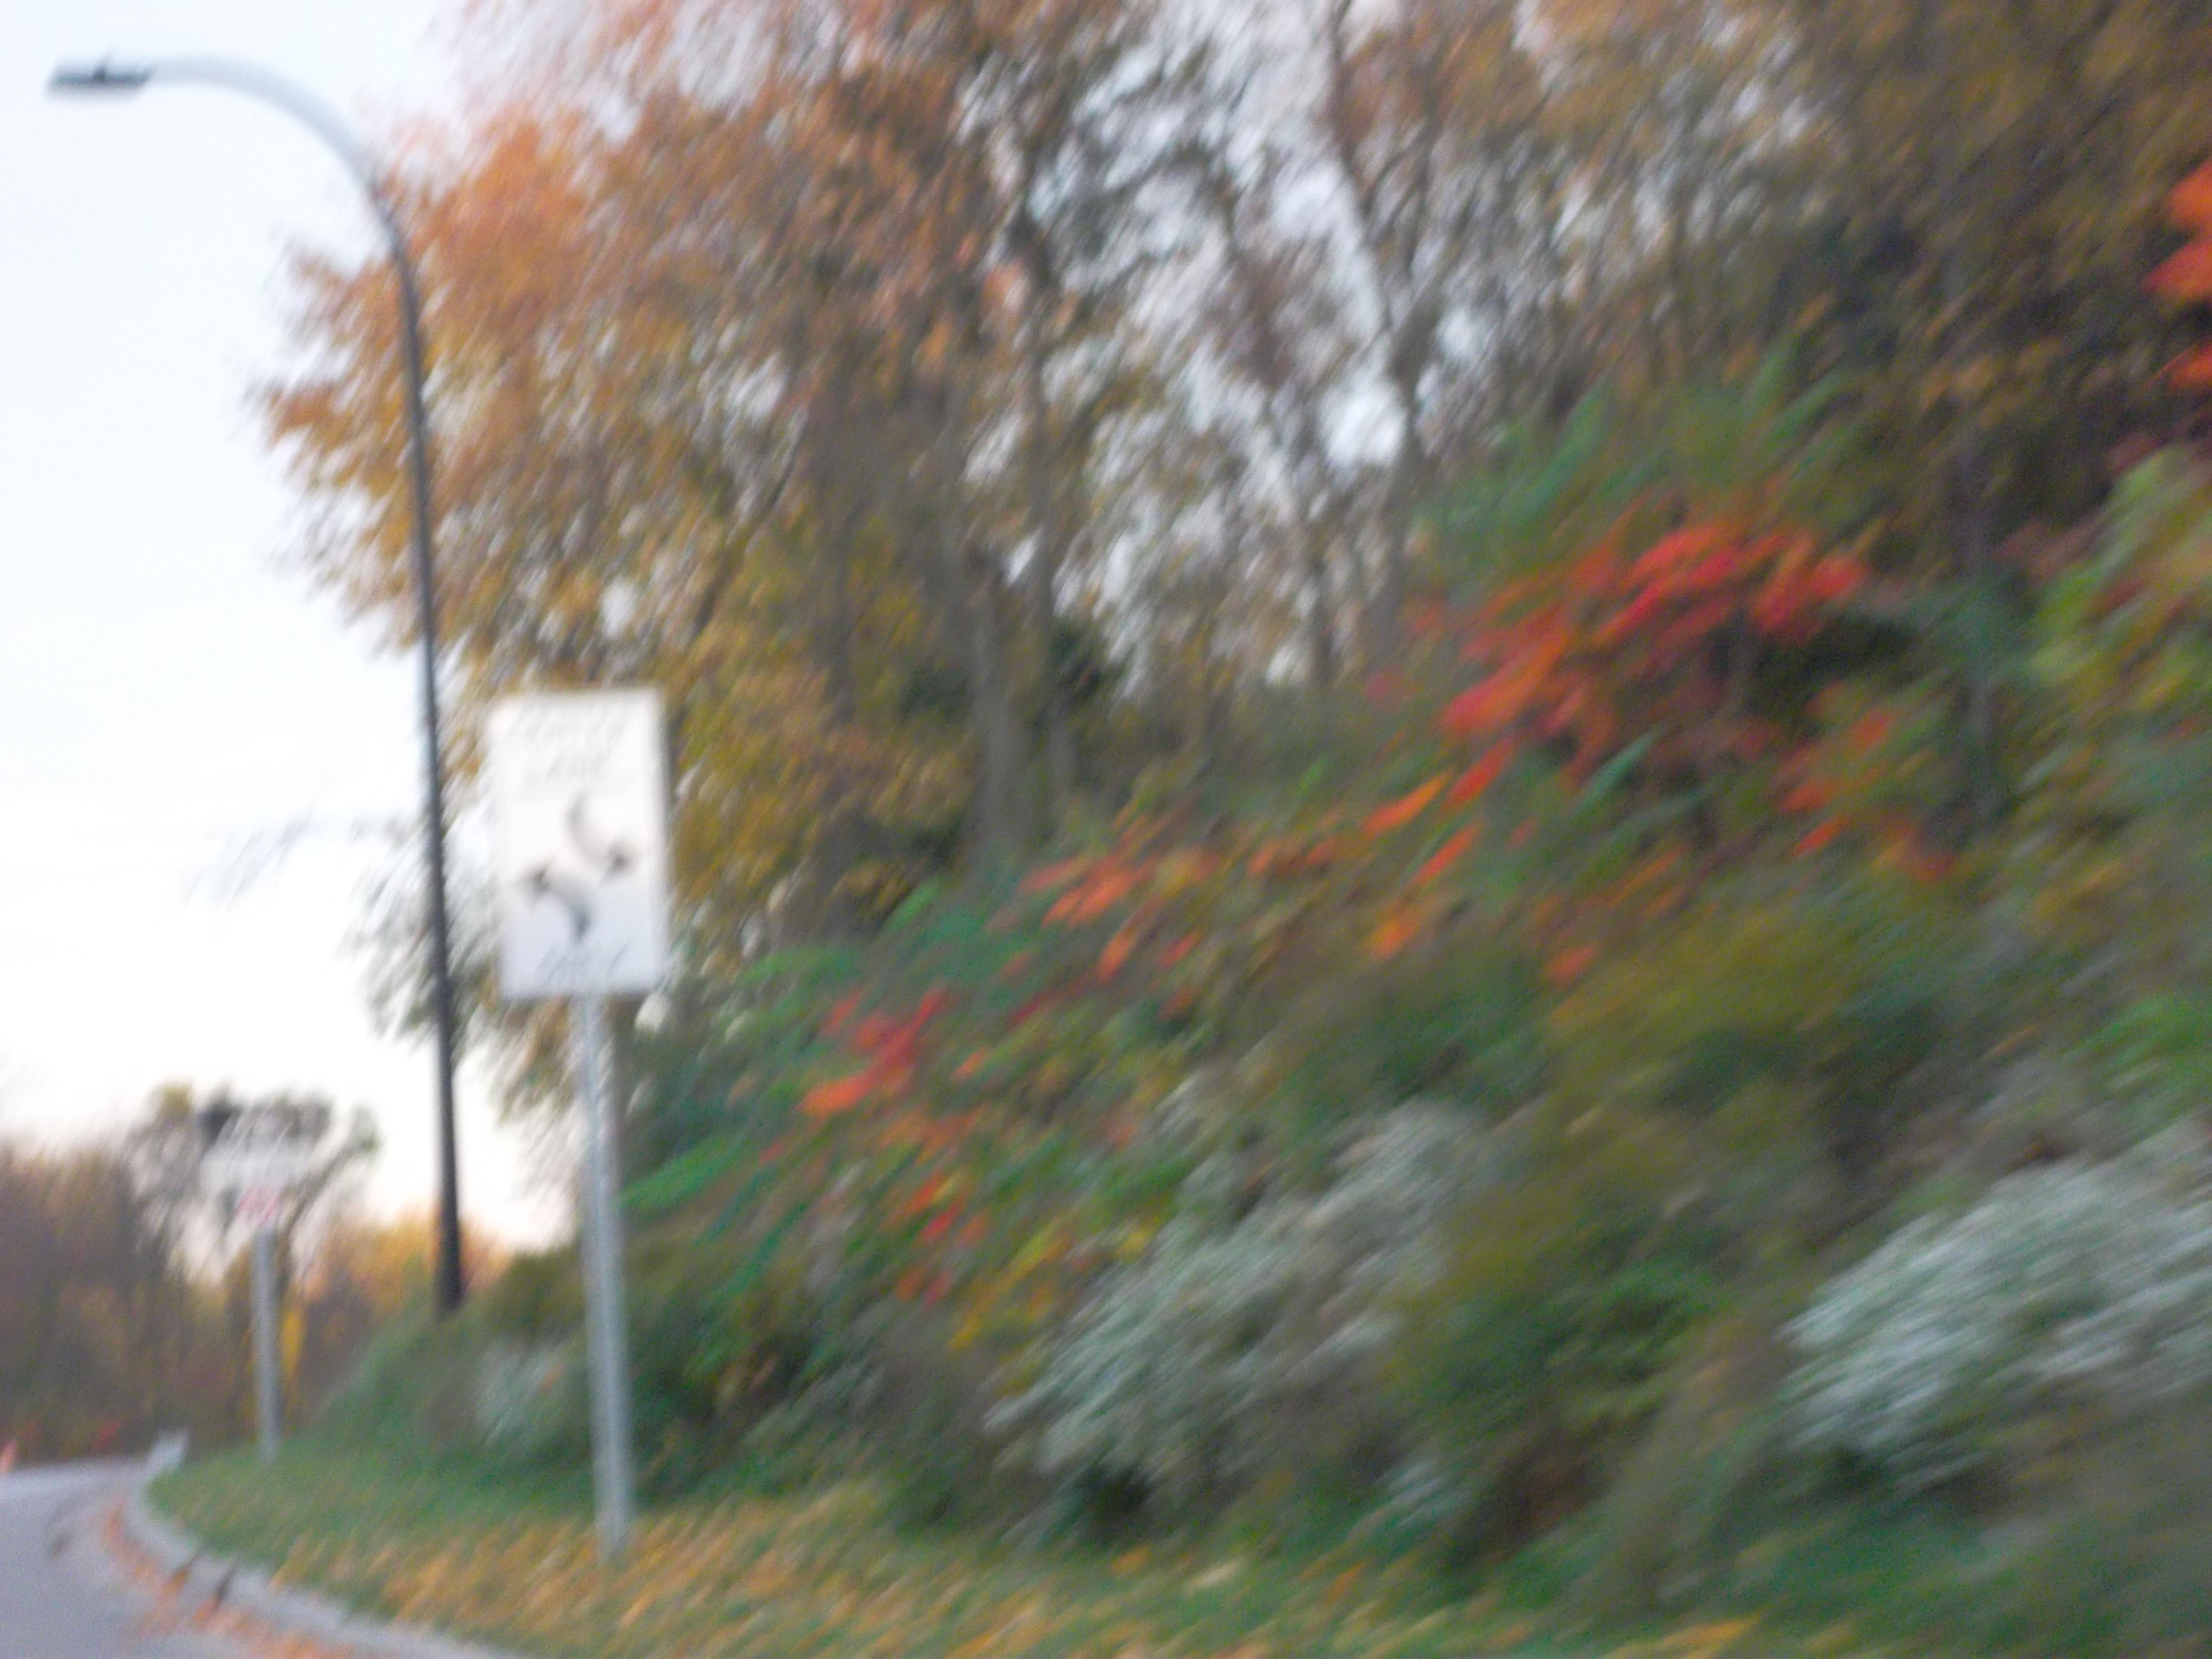regulatory: (493, 697, 676, 1002)
